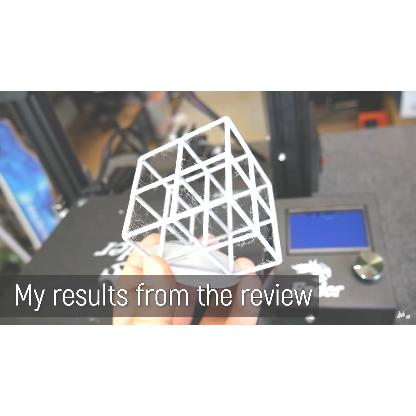fail: (132, 211, 148, 225), (238, 238, 256, 249), (181, 189, 195, 203), (140, 174, 154, 182), (184, 199, 198, 205)
